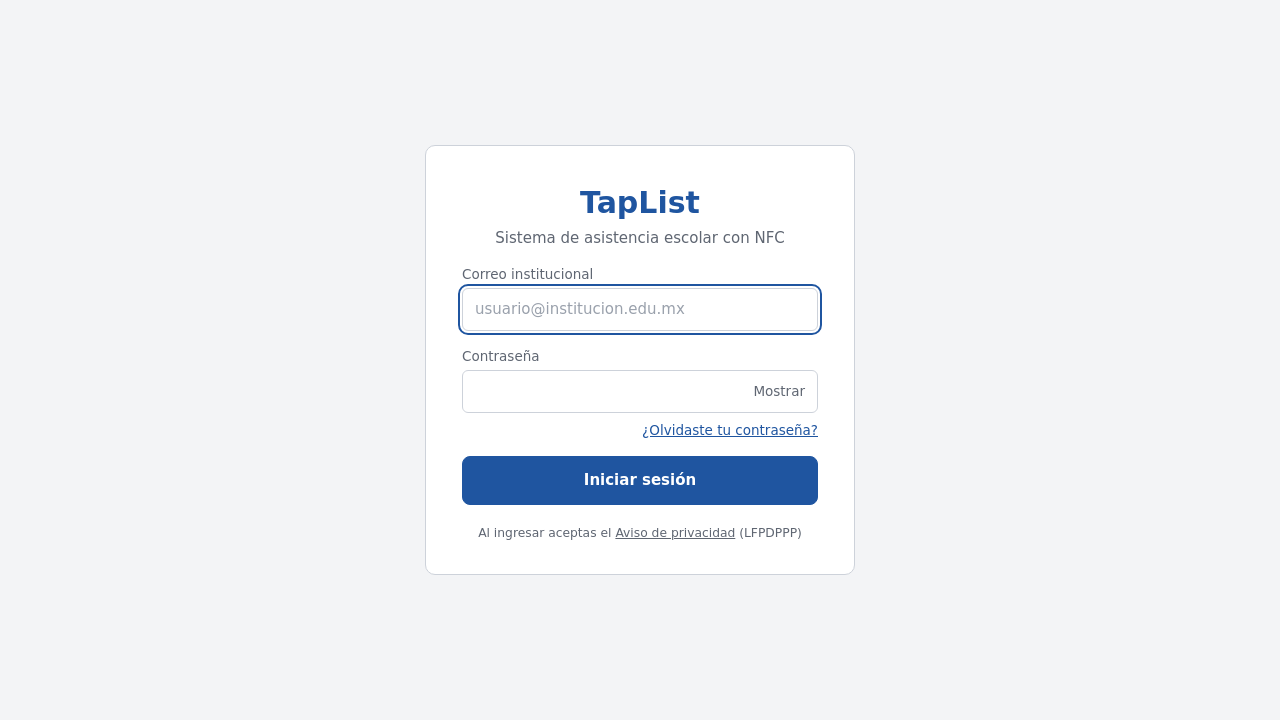
Scenario: P1 · Inicio de sesión › un Docente entra y va a la ruta que indica la API (/asistencias)
The image size is (1280, 720).
Type "  rosa.navarro@academicos.udg.mx " into the field labelled "Correo institucional". click: (640, 310)
box: [462, 288, 818, 331]
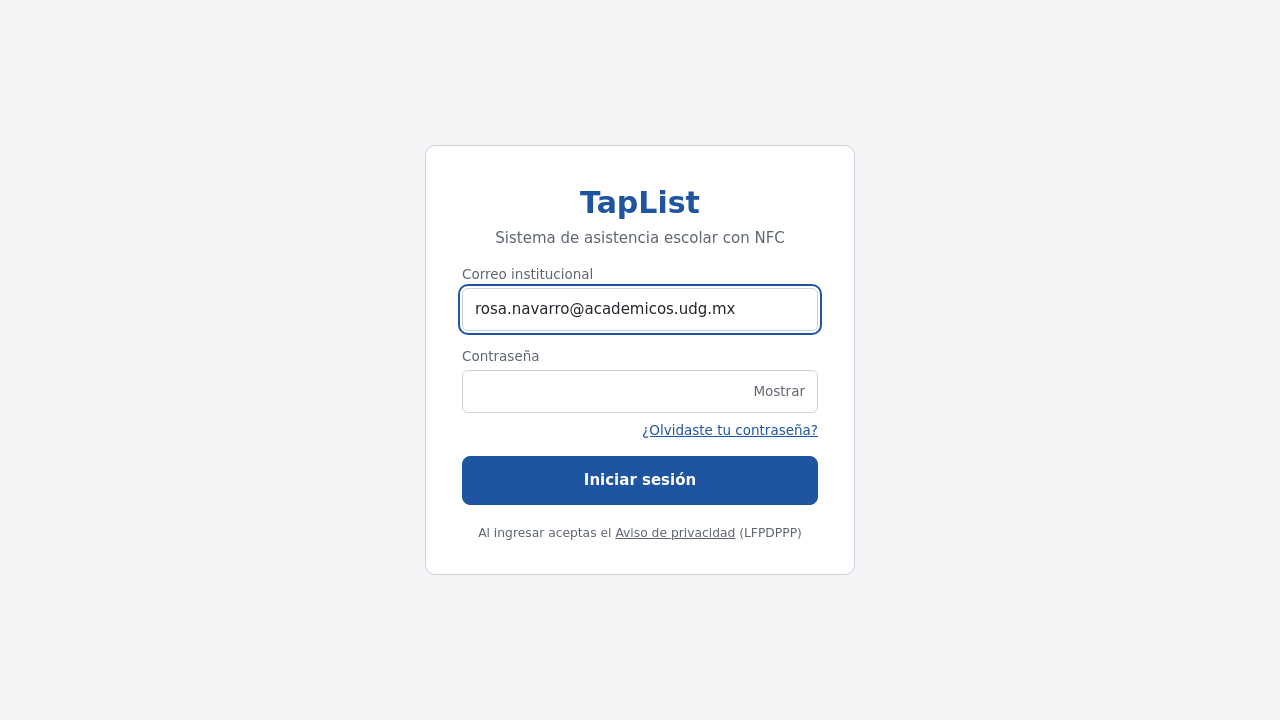
Type "Secreta#123" into the password field labelled "Contraseña". click: (640, 391)
box: [462, 370, 818, 413]
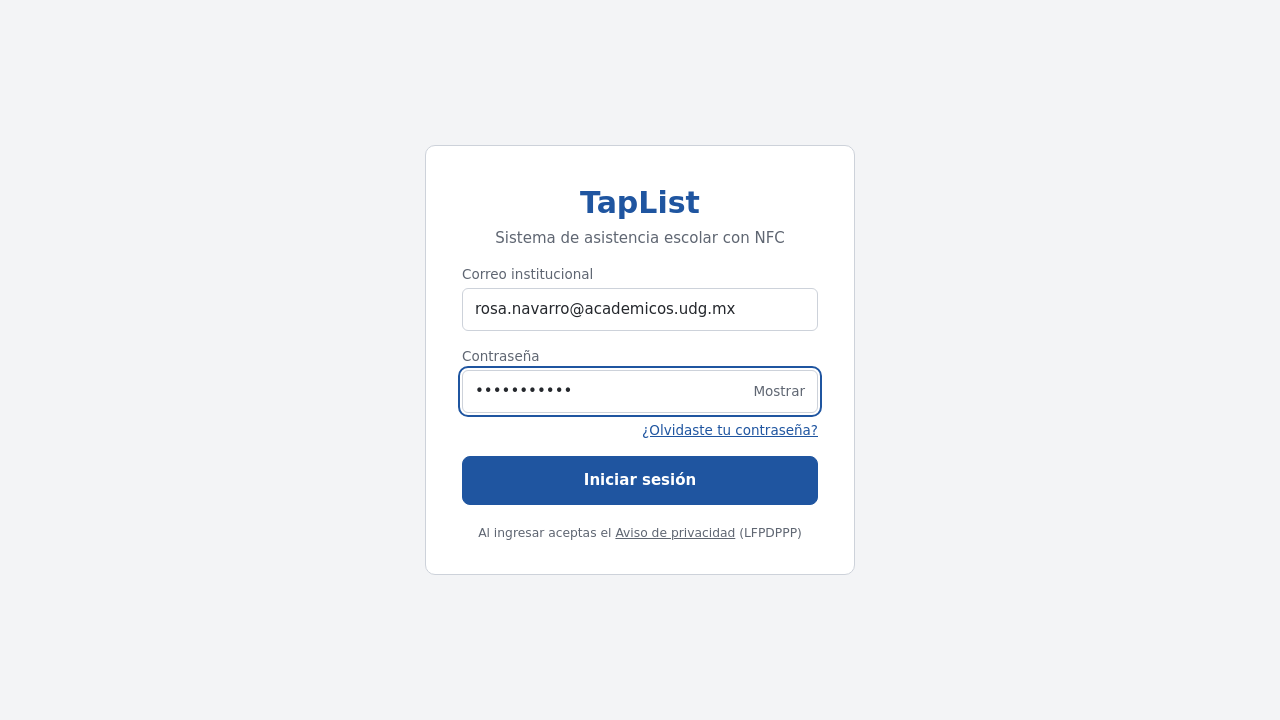
Click the button "Iniciar sesión". click: (640, 480)
box: [462, 456, 818, 505]
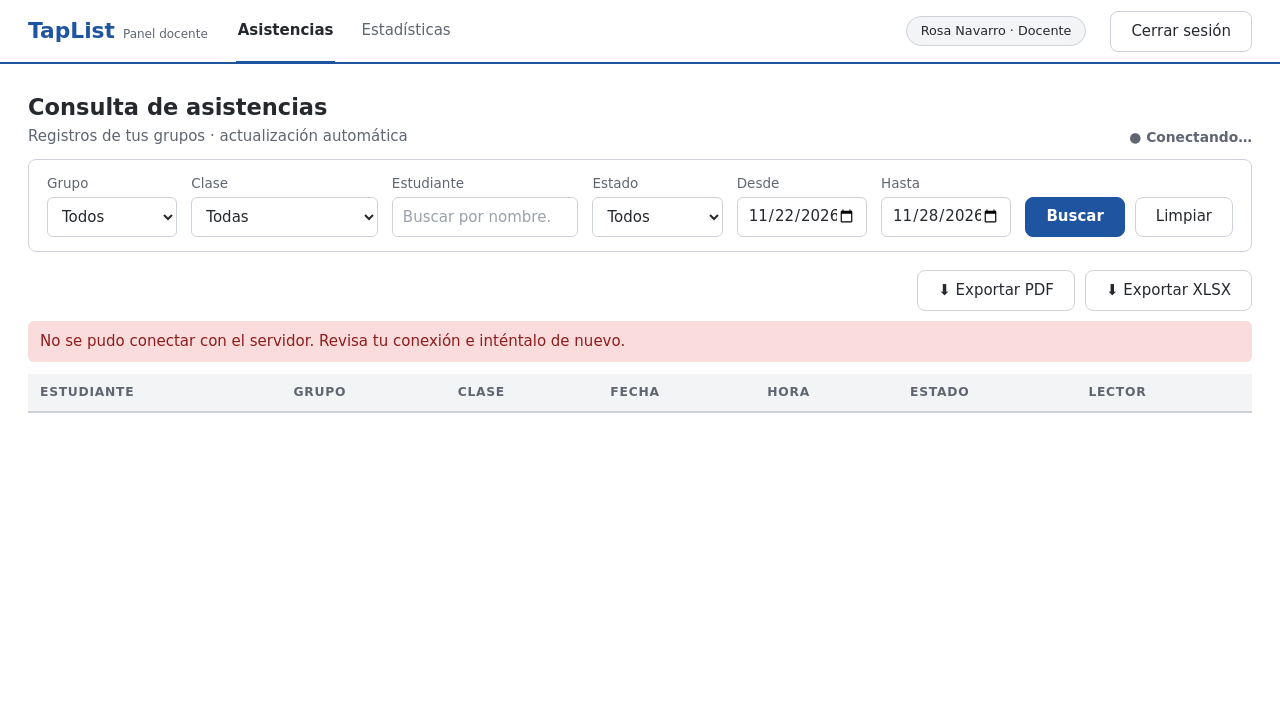
expect the text "Panel docente" is shown: met, box [123, 26, 208, 43]
expect the text with test id "usuario-actual" reads "Rosa Navarro · Docente": met, box [906, 16, 1086, 46]
expect the link "Asistencias" is shown: met, box [236, 0, 336, 64]
